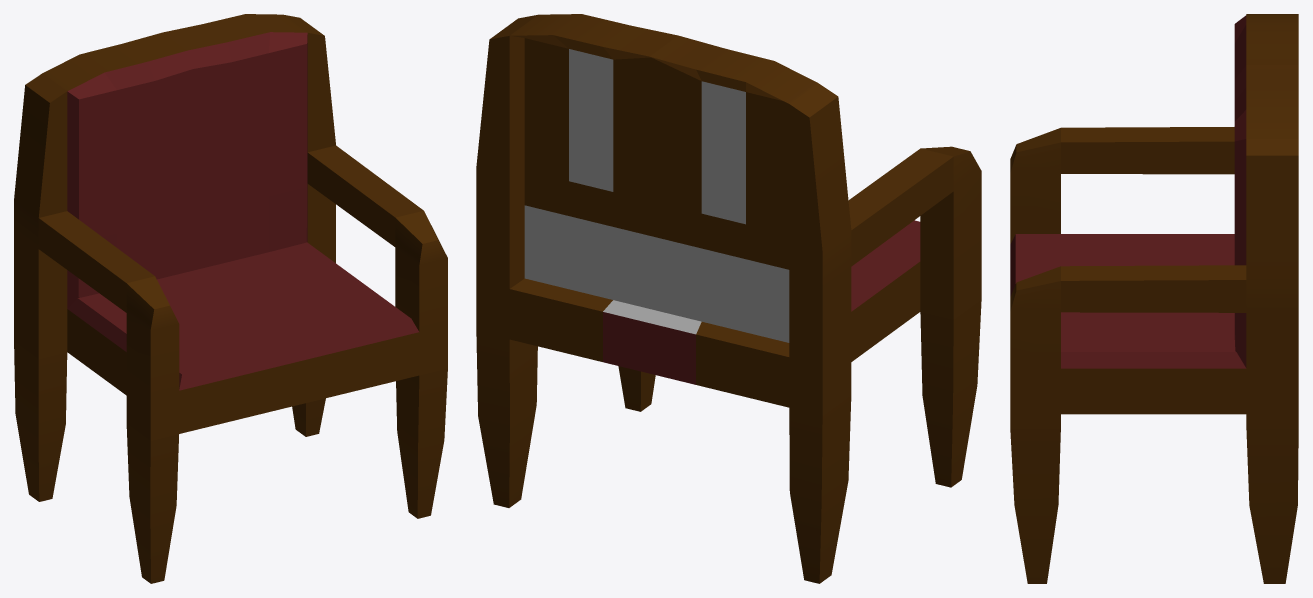
Rendered from Poltrona.fbx.
3 views of the same model, side by side, from view 1: azimuth 30°, elevation 25°; view 2: azimuth 150°, elevation 25°; view 3: azimuth 270°, elevation 25° (orthographic). The views are drawn at different scales.
Visible parts, largest first — view 1: polySurface2; view 2: polySurface2; view 3: polySurface2.
Boxes of the visible parts, x1,y1,x2,y2 form: polySurface2: [14, 14, 447, 583]; polySurface2: [476, 14, 981, 583]; polySurface2: [1010, 14, 1298, 583].
Size of the model in its own units: 2.93 by 3.98 by 2.33.
